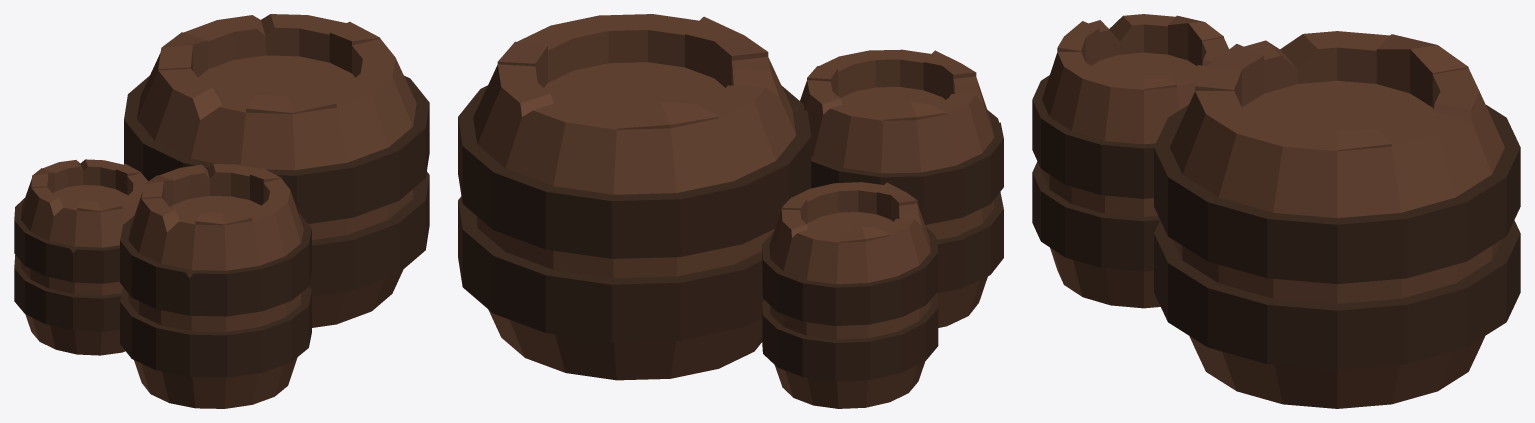
File: Barrel_Stack.fbx
3 views of the same model, side by side, from view 1: azimuth 30°, elevation 25°; view 2: azimuth 150°, elevation 25°; view 3: azimuth 270°, elevation 25° (orthographic). The views are drawn at different scales.
Parts seen in each view (by area): view 1: Fass.001; view 2: Fass.001; view 3: Fass.001.
Part boxes in pixels (left/top/right/bottom): Fass.001: left=14, top=14, right=429, bottom=408; Fass.001: left=458, top=14, right=1003, bottom=408; Fass.001: left=1032, top=14, right=1520, bottom=408.
Bounding box in the file's own units: 372 × 212 × 343.
